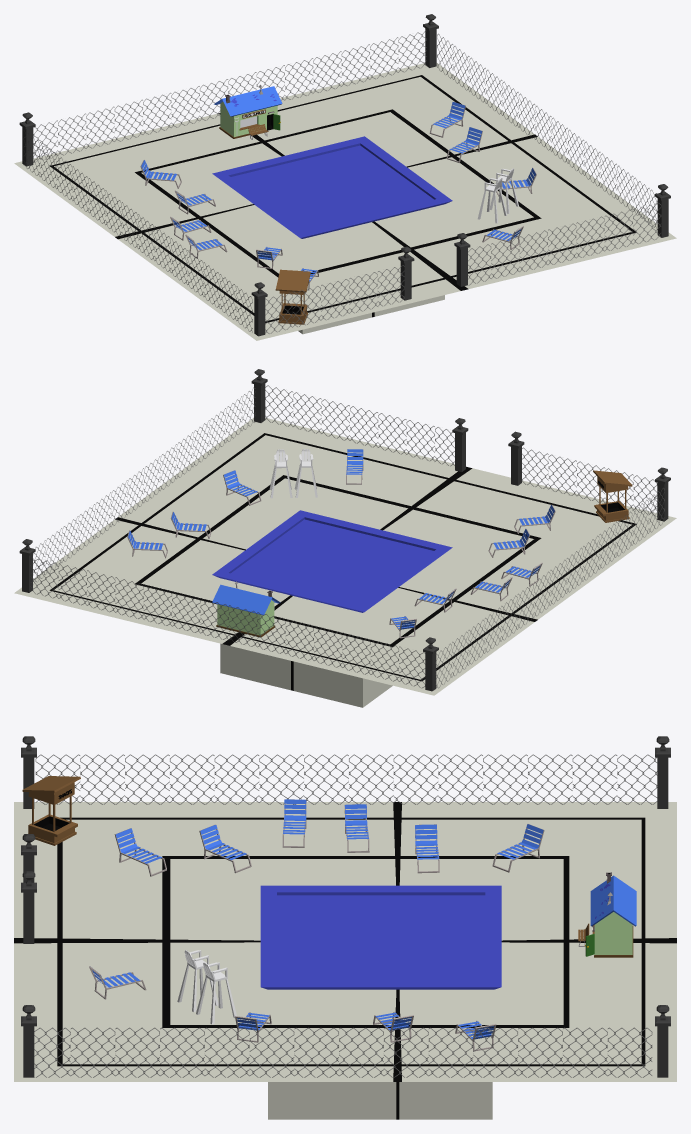
The model's file is pool.glb.
3 renders of one model, top to bottom at view 1: azimuth 30°, elevation 25°; view 2: azimuth 150°, elevation 25°; view 3: azimuth 270°, elevation 25°, orthographic. The views are drawn at different scales.
Parts seen in each view (by area): view 1: poolS, snacks, Cube.006; view 2: poolS, snacks; view 3: poolS, snacks, Cube.005, Cube.006.
Part boxes in pixels (x1,y1,x2,y2): poolS: [14, 14, 676, 340]; snacks: [275, 269, 310, 324]; Cube.006: [477, 177, 507, 223]; poolS: [14, 369, 676, 707]; snacks: [593, 470, 632, 522]; poolS: [14, 736, 676, 1119]; snacks: [22, 776, 80, 845]; Cube.005: [196, 962, 236, 1024]; Cube.006: [177, 950, 218, 1012].
Size of the model in its own units: 600 by 200 by 600.
Materials: 3 (3 with a texture image).
